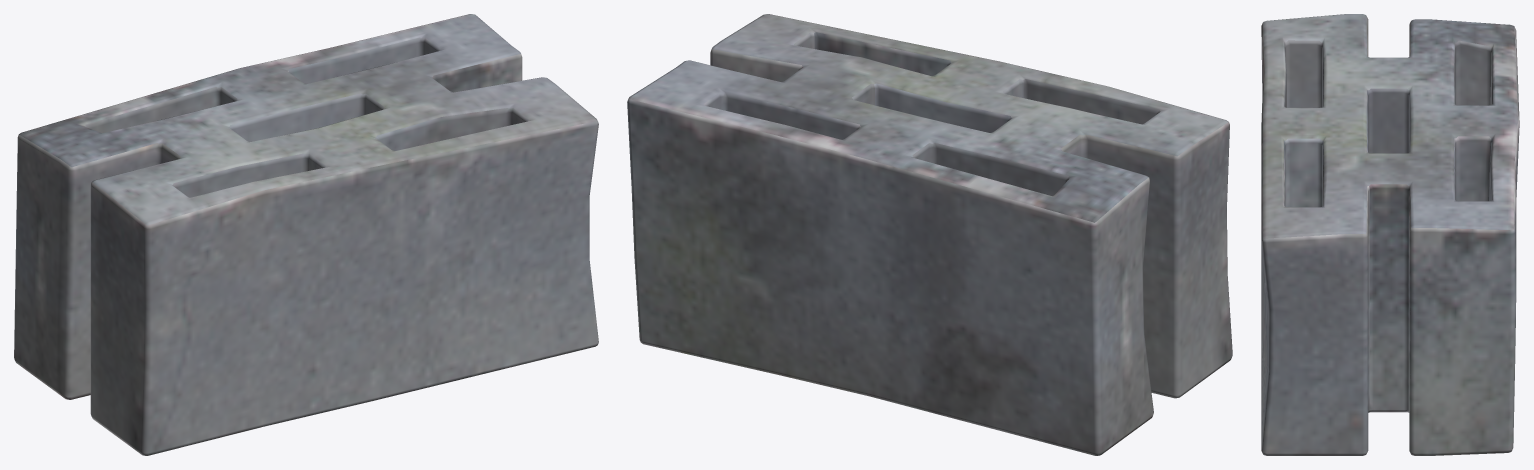
The model's file is sm_Wall_06_33_Brick.fbx.
The picture shows the model from 3 angles, left to right: view 1: azimuth 30°, elevation 25°; view 2: azimuth 150°, elevation 25°; view 3: azimuth 270°, elevation 25°; orthographic projection. The views are drawn at different scales.
Visible parts, largest first — view 1: sm_Wall_06_33_Brick_LOD0; view 2: sm_Wall_06_33_Brick_LOD0; view 3: sm_Wall_06_33_Brick_LOD0.
Boxes of the visible parts, x1,y1,x2,y2 form: sm_Wall_06_33_Brick_LOD0: (14, 14, 598, 455); sm_Wall_06_33_Brick_LOD0: (627, 14, 1232, 455); sm_Wall_06_33_Brick_LOD0: (1261, 14, 1519, 455).
Bounding box in the file's own units: 25.34 × 50.5 × 25.
